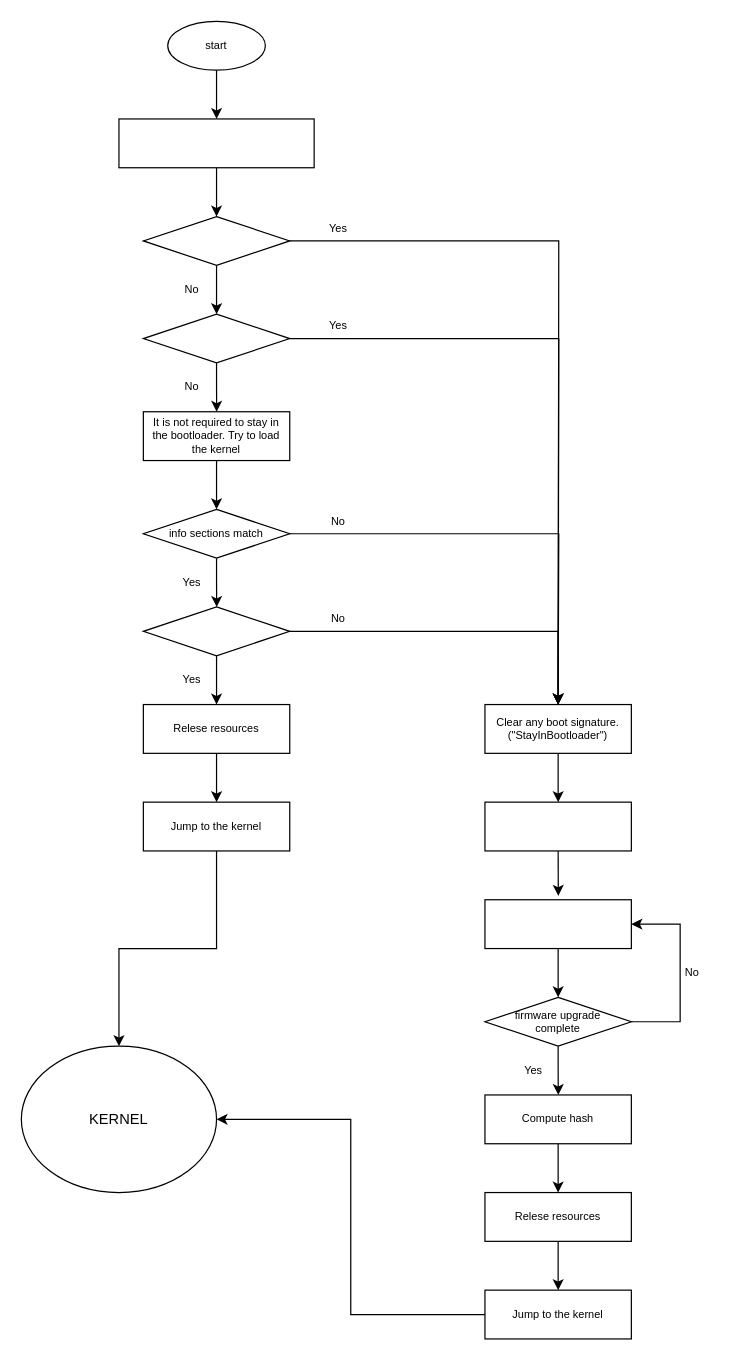
Image size: 738x1360. Some labels were removed from this diagram. Each missing label, with the centre of its shape:
Basic initialization consisting of clock tree init and ICM init: (216,143)
boot pin low: (216,240)
boot signature present: (216,338)
computed hash match: (216,631)
Initialize a serial console: (557,826)
Process frames: (557,924)
